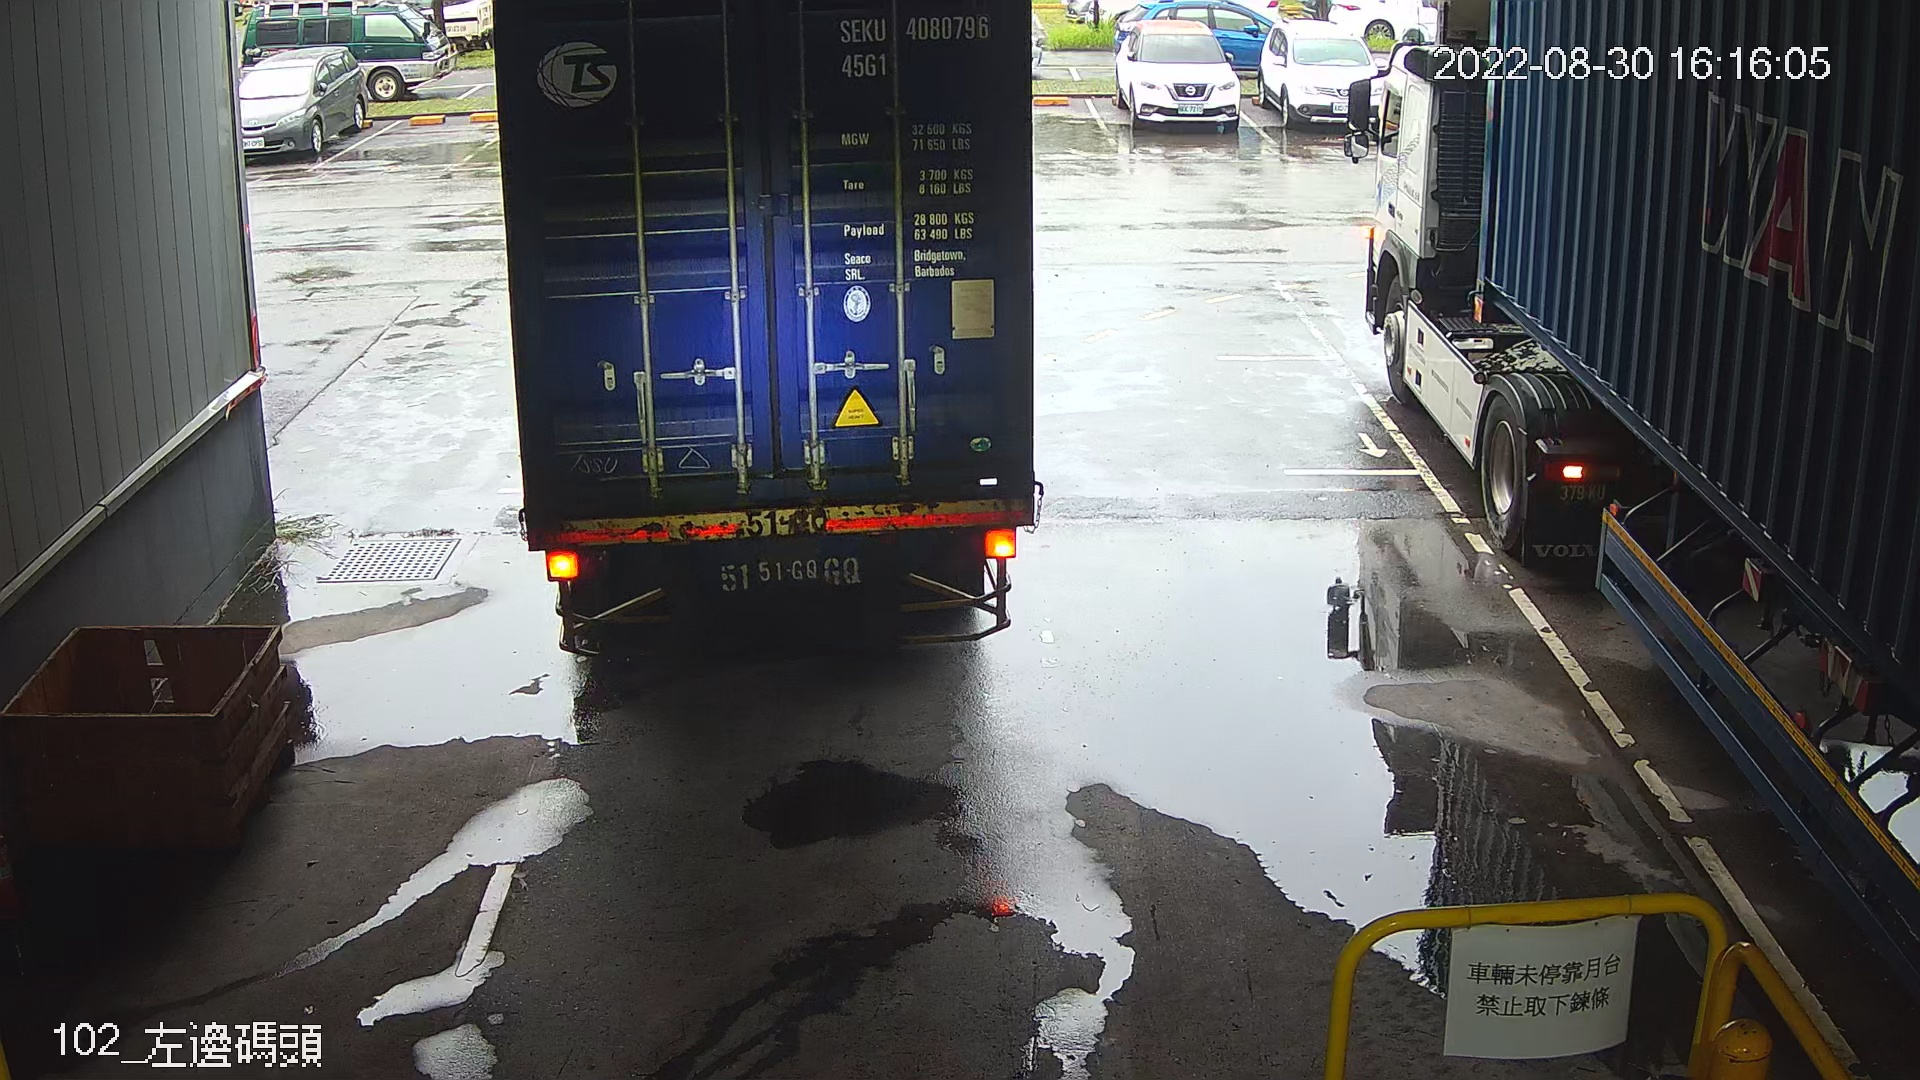container: (828, 8, 1000, 86)
